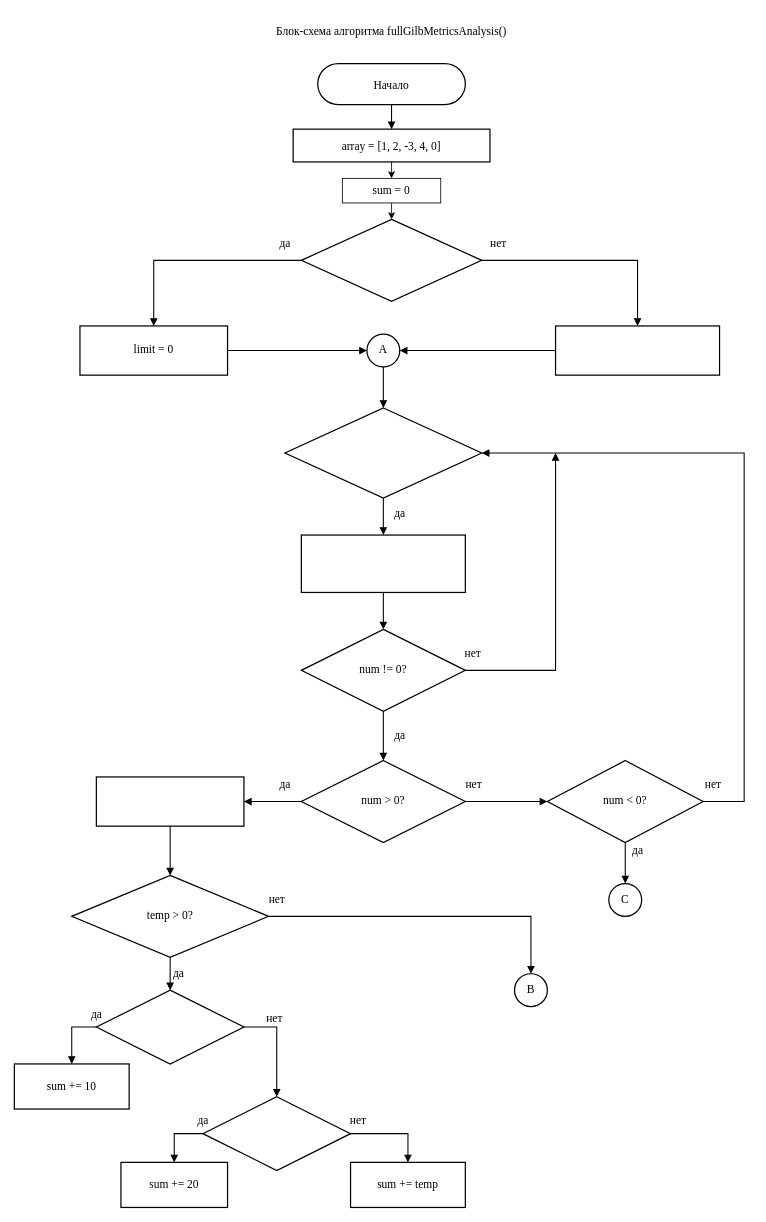
The diagram is 766 pixels wide and 1222 high, and some of its shapes have lost their labels. Here are the shapes that lost their labels. From the top down, the box of each, then its label:
(300, 218, 482, 302): array.isEmpty?
(555, 325, 720, 375): limit = array.count
(284, 407, 482, 498): Есть следующий num в array?
(300, 534, 466, 593): num = следующий элемент array
(95, 776, 244, 826): temp = num
(95, 989, 244, 1064): temp == 1?
(202, 1096, 351, 1171): temp == 2?
